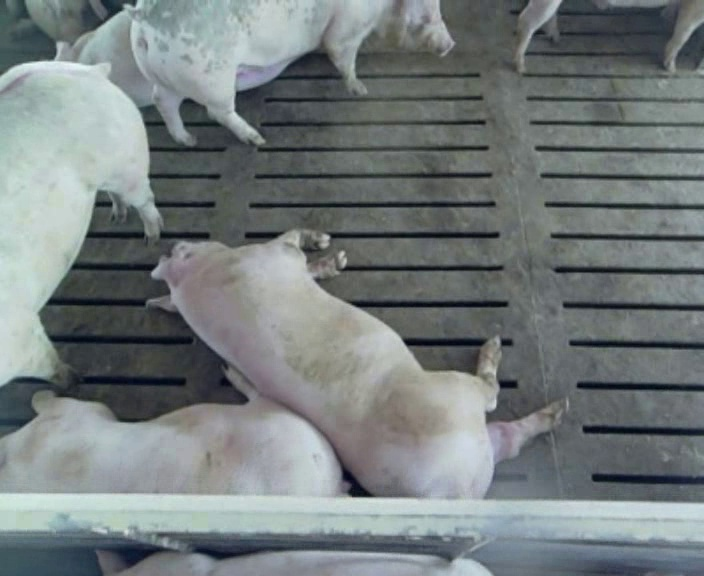pig: (148, 229, 566, 497), (0, 62, 162, 386), (129, 2, 454, 144), (0, 363, 342, 495), (95, 550, 491, 575), (25, 1, 108, 43)
